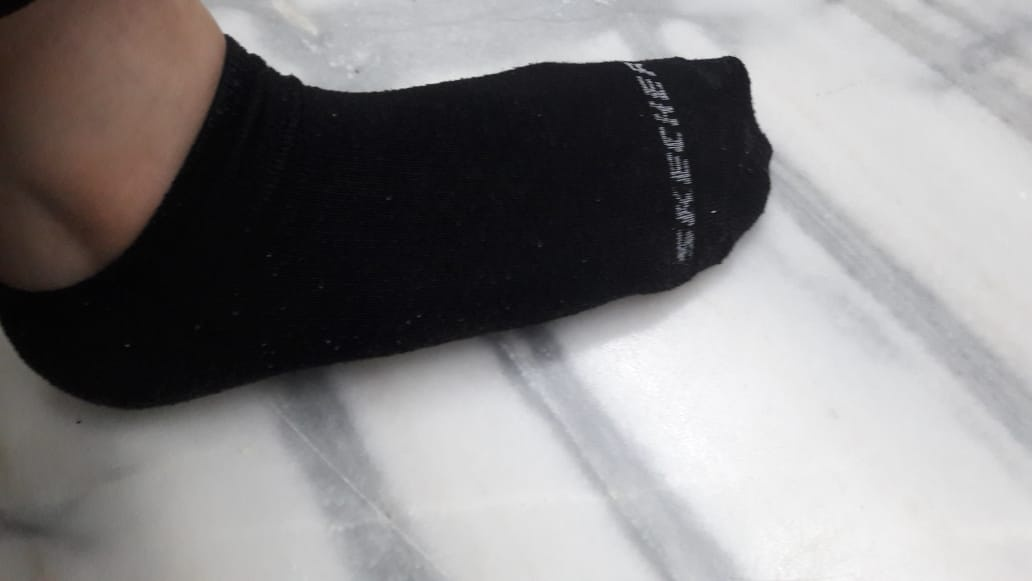feet: (5, 4, 783, 411)
